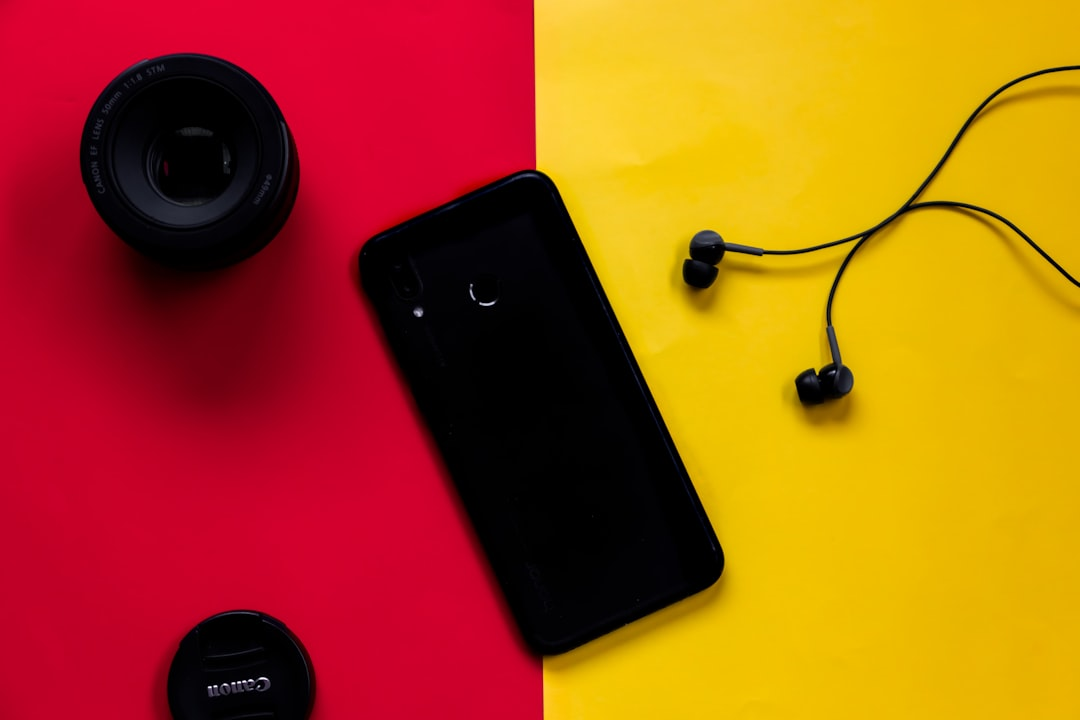phone: (360, 171, 725, 660)
